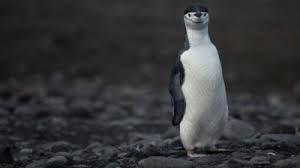chinstrap: (157, 1, 243, 161)
